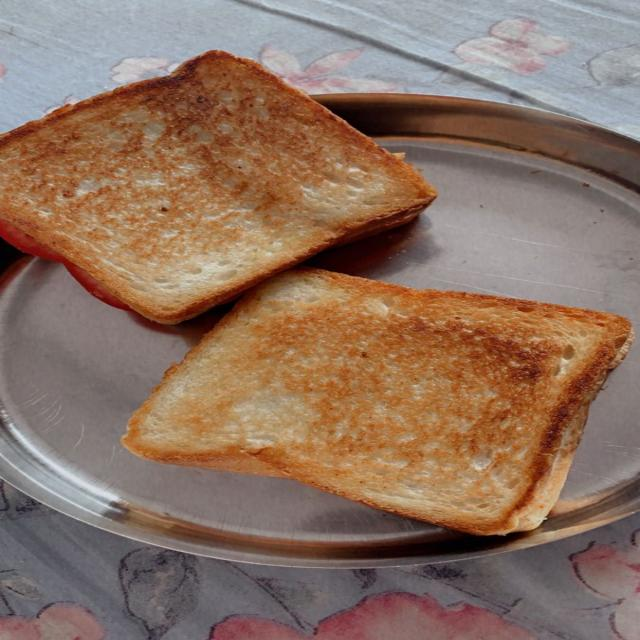toast bread: (122, 268, 632, 535), (0, 51, 435, 323)
